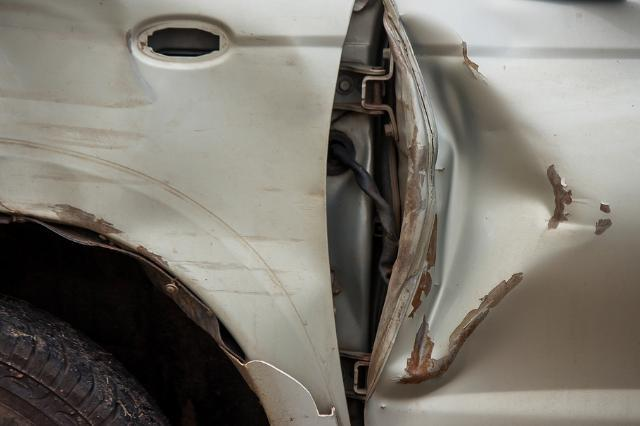Door: (362, 4, 633, 412)
